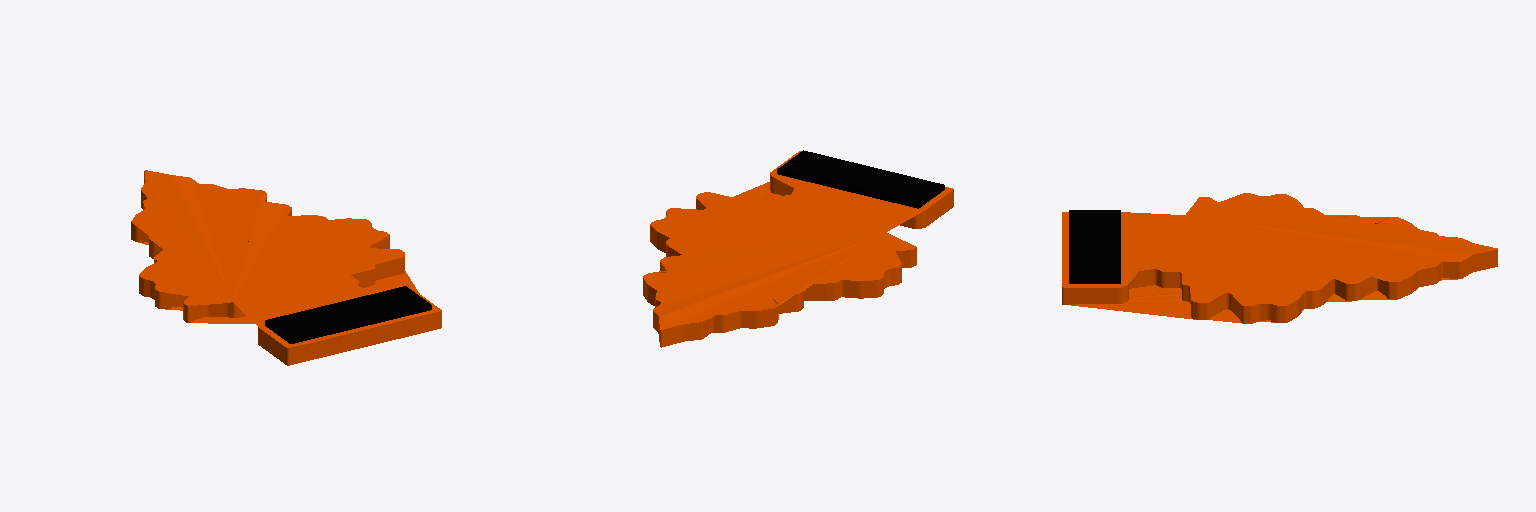
File: freshenerv4.obj
3 renders of one model, left to right at view 1: azimuth 30°, elevation 25°; view 2: azimuth 150°, elevation 25°; view 3: azimuth 270°, elevation 25°, orthographic.
Parts seen in each view (by area): view 1: Line003, Box001; view 2: Line003, Box001; view 3: Line003, Box001.
Part boxes in pixels (left/top/right/bottom): Line003: left=131, top=170, right=441, bottom=365; Box001: left=265, top=286, right=431, bottom=343; Line003: left=643, top=151, right=953, bottom=347; Box001: left=777, top=150, right=944, bottom=208; Line003: left=1062, top=193, right=1497, bottom=323; Box001: left=1069, top=210, right=1120, bottom=283.
Bounding box in the file's own units: 1.74 × 0.1612 × 2.84.